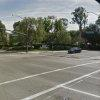Tree: (12, 9, 73, 43)
